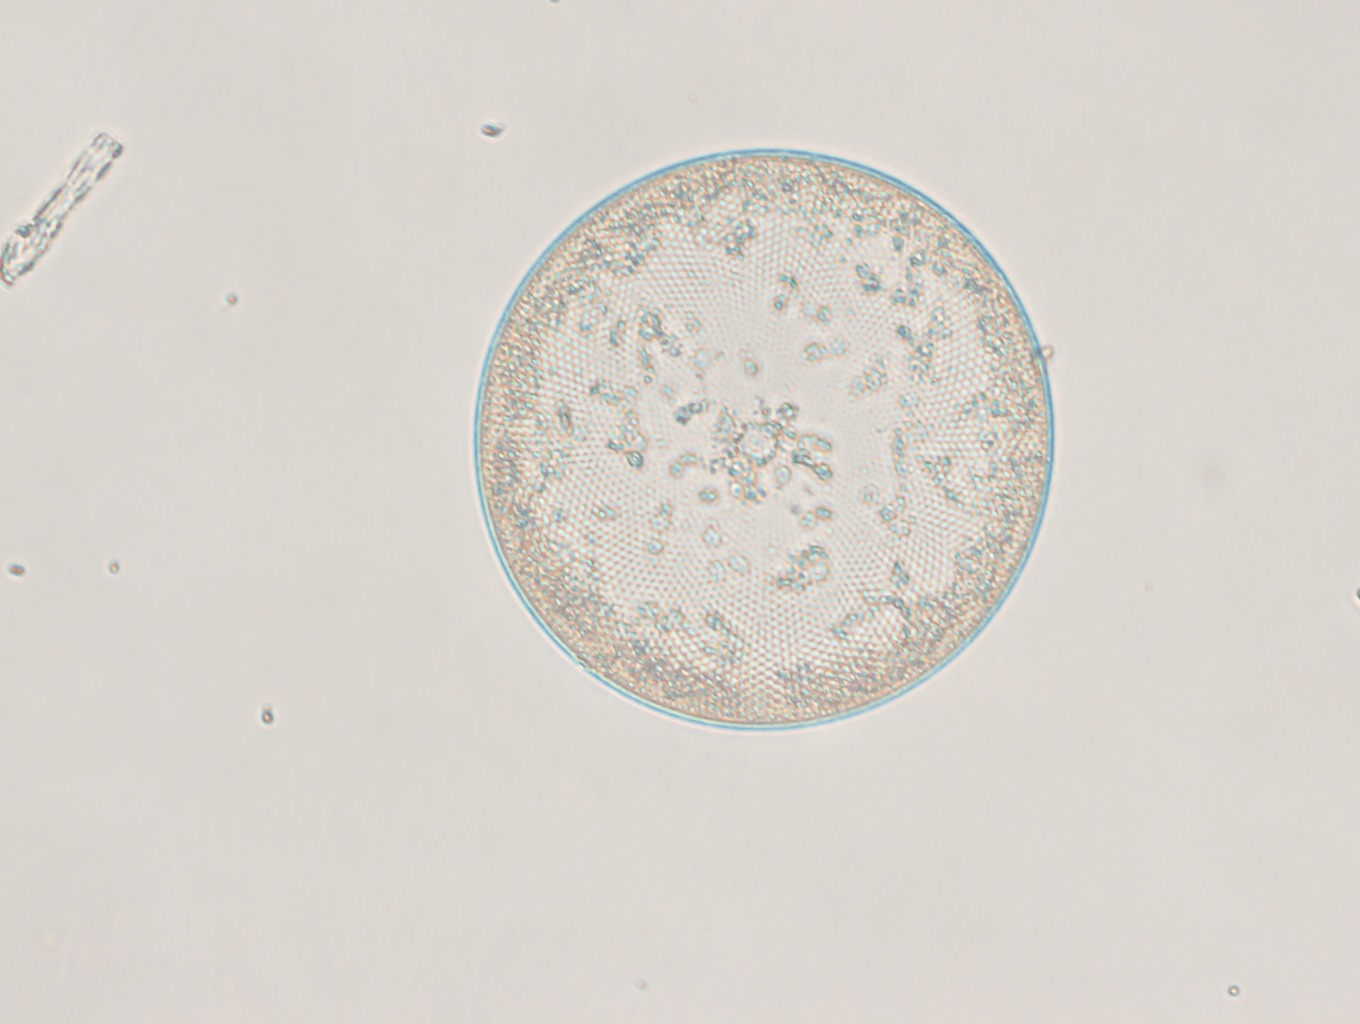coscinodiscus: (462, 138, 1064, 740)
